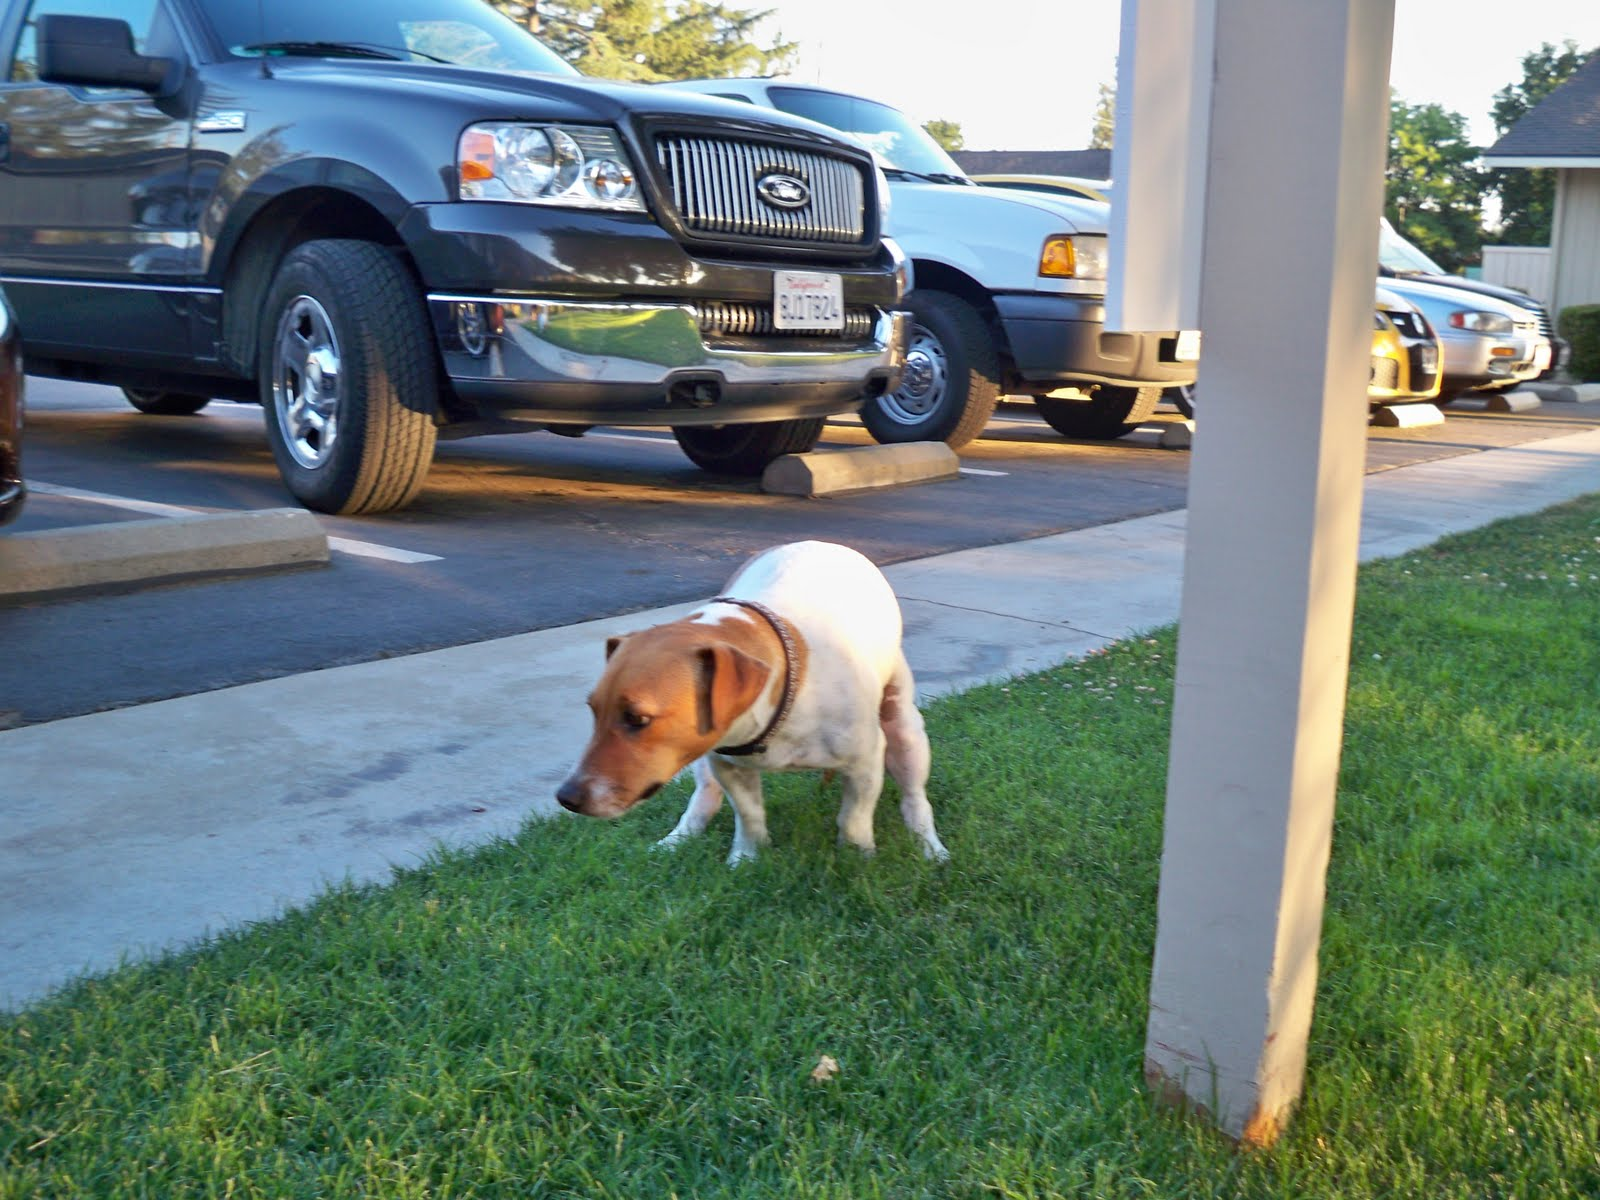dog_pooping: (548, 533, 968, 877)
